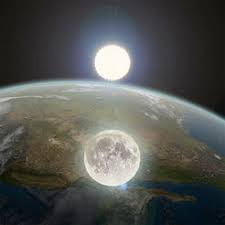moon: (94, 43, 130, 80)
